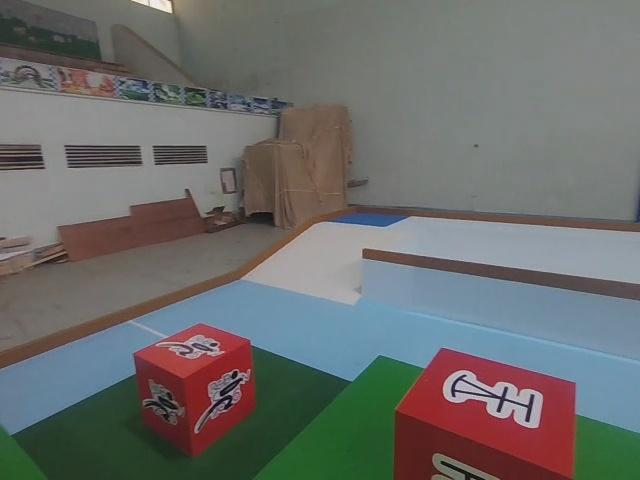R1: (133, 324, 256, 454)
R2 Real: (393, 348, 577, 480)
